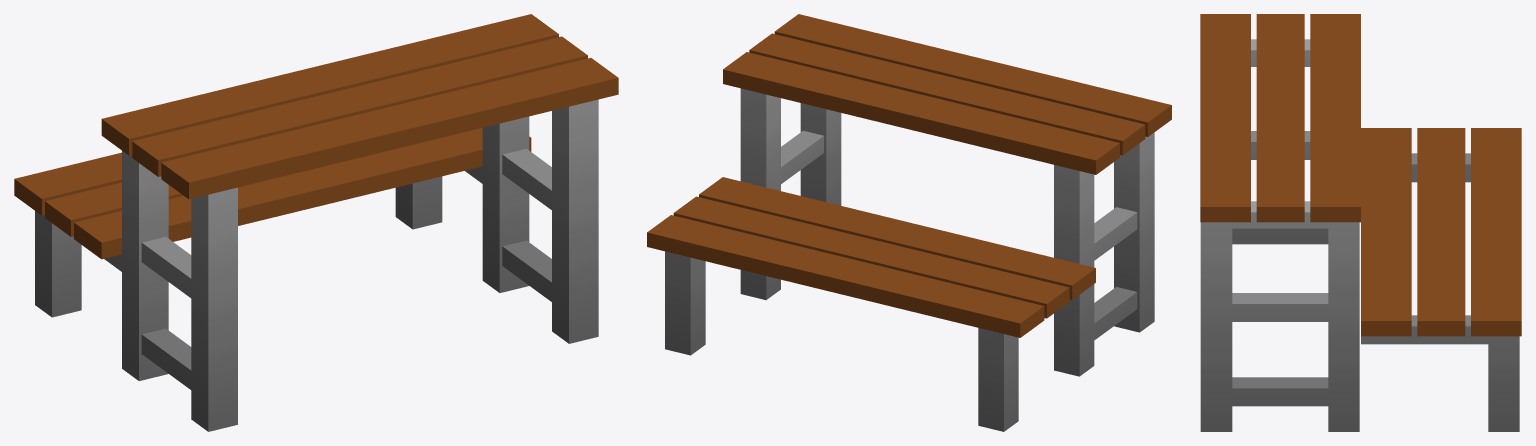
File: Bench_1_A_2.fbx
3 renders of one model, left to right at view 1: azimuth 30°, elevation 25°; view 2: azimuth 150°, elevation 25°; view 3: azimuth 270°, elevation 25°, orthographic. The views are drawn at different scales.
Parts seen in each view (by area): view 1: Bench_1_A_2; view 2: Bench_1_A_2; view 3: Bench_1_A_2.
Boxes of the visible parts, left/top/right/bottom form: Bench_1_A_2: left=14, top=14, right=618, bottom=431; Bench_1_A_2: left=647, top=14, right=1171, bottom=431; Bench_1_A_2: left=1200, top=14, right=1521, bottom=431.
Size of the model in its own units: 116 by 65.4 by 81.37.
